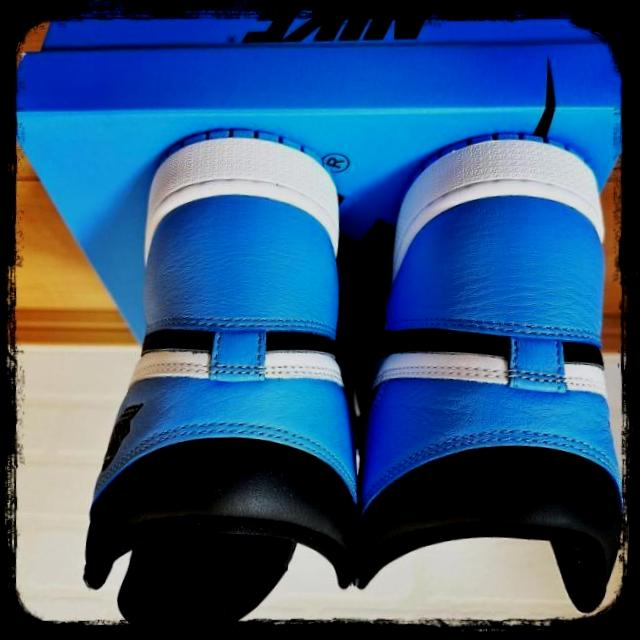nike_original_jordan: (54, 111, 378, 636), (335, 122, 640, 621)
